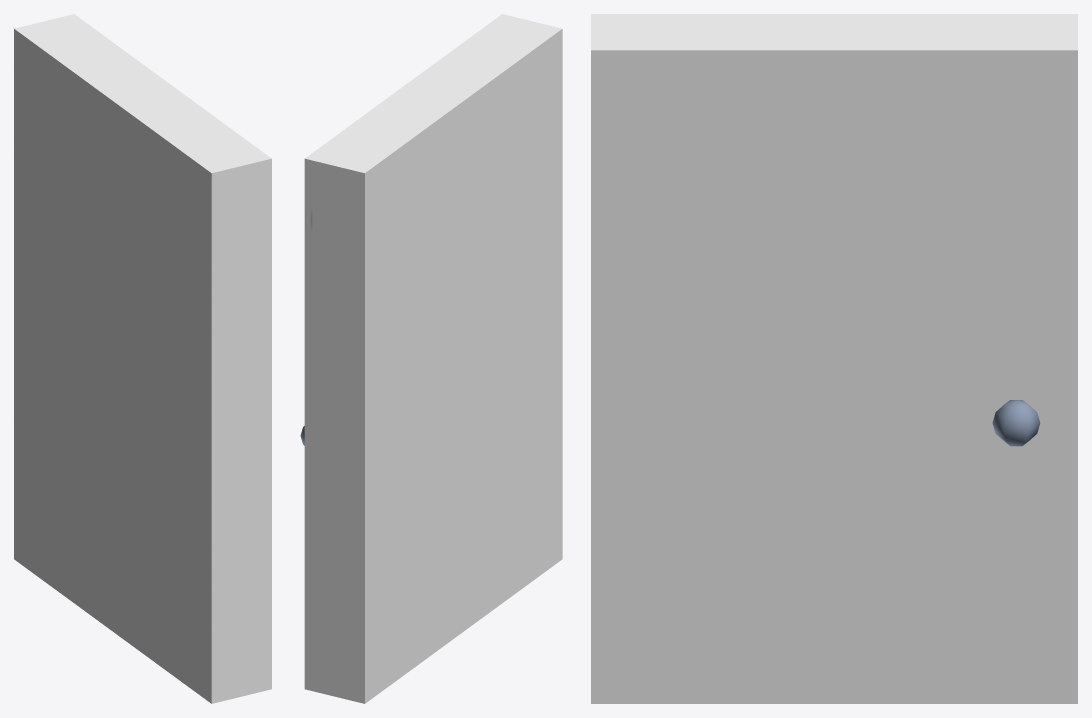
Rendered from door_interior.glb.
The picture shows the model from 3 angles, left to right: view 1: azimuth 30°, elevation 25°; view 2: azimuth 150°, elevation 25°; view 3: azimuth 270°, elevation 25°; orthographic projection. The views are drawn at different scales.
Parts seen in each view (by area): view 1: Door.Interior; view 2: Door.Interior; view 3: Door.Interior.
Part boxes in pixels (x1,y1,x2,y2): Door.Interior: (14,14,271,703); Door.Interior: (300,14,562,703); Door.Interior: (591,14,1077,703).
Size of the model in its own units: 0.1825 by 1.09 by 0.7389.
1 material, 1 textured.
